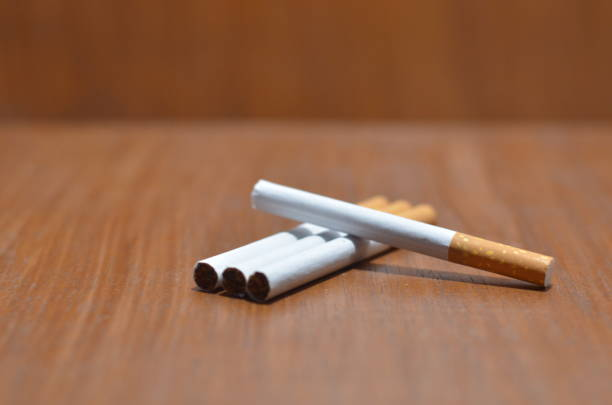cigarette: (252, 180, 551, 287), (221, 198, 413, 299), (191, 197, 388, 295), (245, 203, 438, 302)
